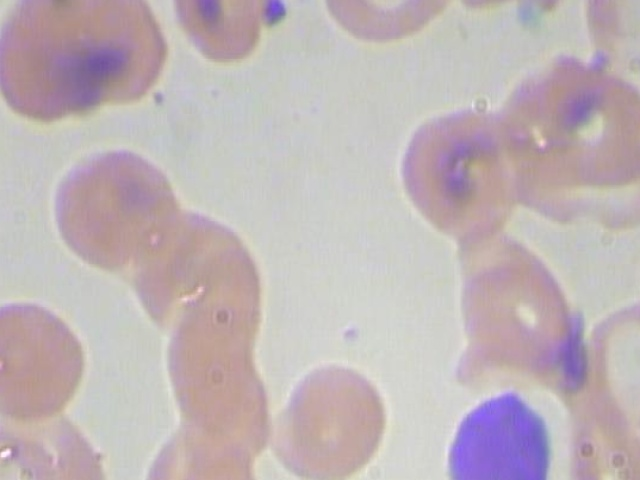Platelets: (257, 0, 301, 33)
RBC: (497, 56, 640, 219), (111, 198, 247, 332), (47, 142, 184, 275), (449, 252, 586, 385), (385, 103, 521, 236), (262, 356, 399, 480), (0, 0, 120, 131), (49, 0, 172, 113), (0, 287, 102, 420), (568, 292, 640, 426), (158, 0, 295, 64), (557, 389, 640, 480), (320, 0, 457, 51), (138, 420, 254, 480), (566, 0, 640, 69)
WBC: (420, 383, 561, 480)
